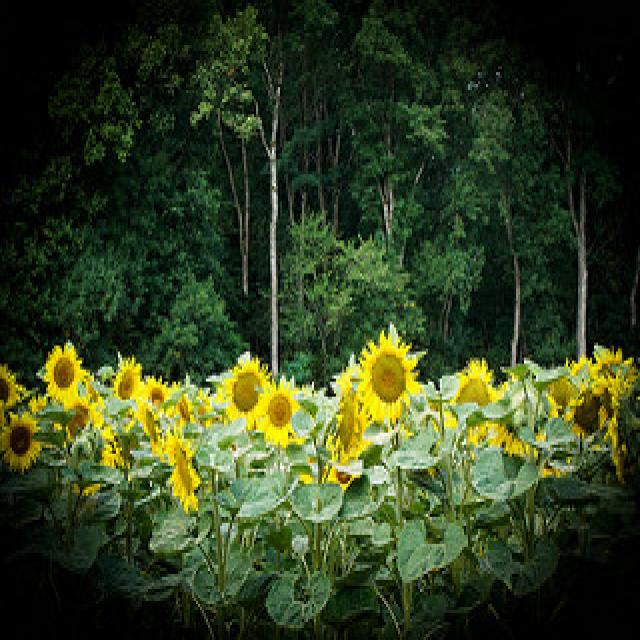sunflower: (351, 336, 423, 424), (223, 354, 274, 421), (43, 342, 86, 404), (447, 358, 501, 407), (256, 381, 300, 441), (3, 411, 39, 472), (171, 452, 202, 509), (112, 352, 142, 408)
